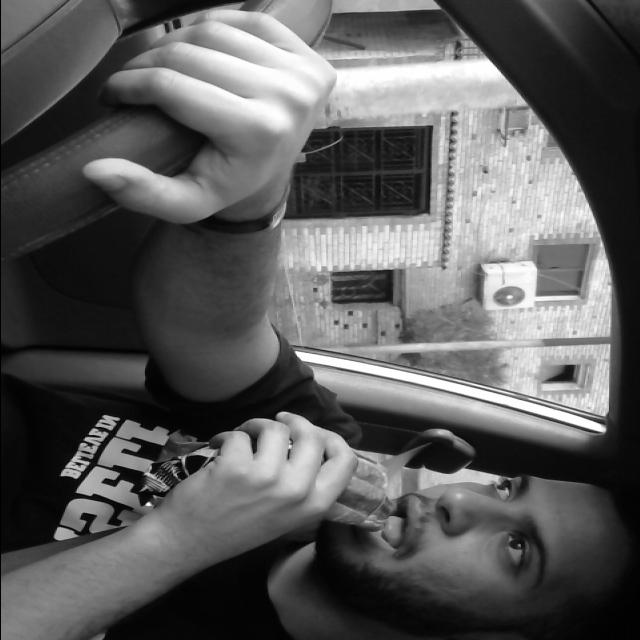eating: (188, 422, 398, 532)
